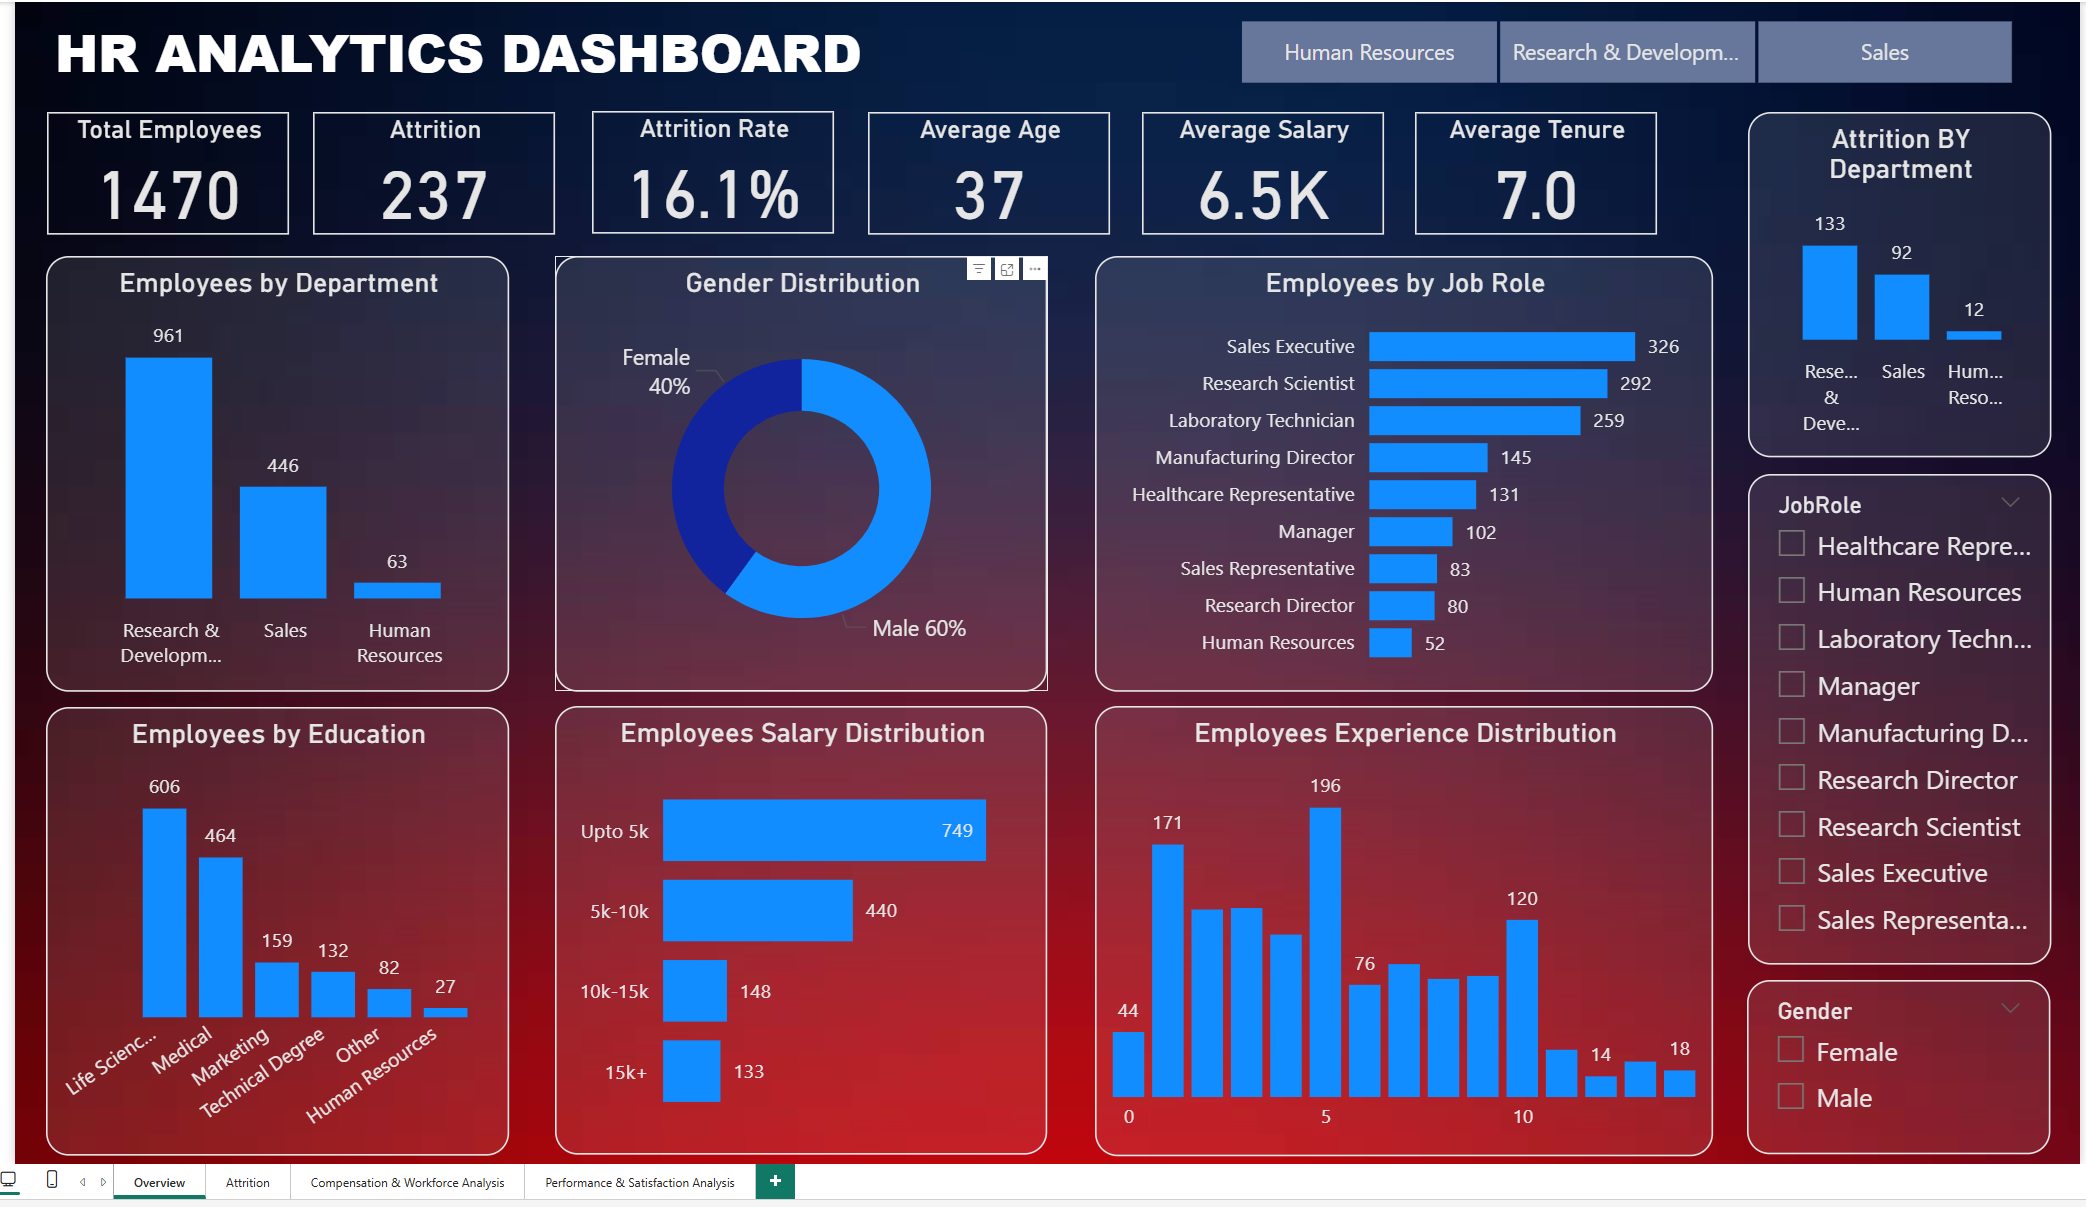

The page's visual inventory and layout, read from the dashboard file:
{"tool":"powerbi","page":{"name":"Overview","canvas":[1280,720],"ordinal":0},"visuals":[{"type":"card","title":"Attrition","fields":{"Values":["Sum(HR_Analytics.AttritionCount)"]},"box":[184.7,68,149.9,75.7],"z":0},{"type":"card","title":"Average Tenure","fields":{"Values":["Avg(HR_Analytics.YearsAtCompany)"]},"box":[867.6,68,149.9,75.7],"z":1000},{"type":"card","title":"Average Salary","fields":{"Values":["Avg(HR_Analytics.MonthlyIncome)"]},"box":[698,68,149.9,75.7],"z":2000},{"type":"card","title":"Average Age","fields":{"Values":["Avg(HR_Analytics.Age)"]},"box":[528.5,68,149.9,75.7],"z":3000},{"type":"card","title":"Attrition Rate","fields":{"Values":["HR_Analytics.AttritionRate"]},"box":[357.5,67.8,149.9,76.2],"z":4000},{"type":"columnChart","title":"Employees by Department","fields":{"Category":["HR_Analytics.Department"],"Y":["CountNonNull(HR_Analytics.EmpID)"]},"box":[19.2,157.4,286.9,269.5],"z":5000},{"type":"donutChart","title":"Gender Distribution","fields":{"Category":["HR_Analytics.Gender"],"Y":["CountNonNull(HR_Analytics.EmpID)"]},"box":[334.6,157.4,305.5,269.5],"z":6000},{"type":"clusteredBarChart","title":"Employees by Job Role","fields":{"Category":["HR_Analytics.JobRole"],"Y":["CountNonNull(HR_Analytics.EmpID)"]},"box":[669.3,157.5,383.1,269.5],"z":7000},{"type":"card","title":"Total Employees","fields":{"Values":["CountNonNull(HR_Analytics.EmpID)"]},"box":[19.7,68.1,149.9,75.7],"z":8000},{"type":"columnChart","title":"Employees by Education","fields":{"Category":["HR_Analytics.EducationField"],"Y":["CountNonNull(HR_Analytics.EmpID)"]},"box":[19.2,436.8,286.9,277.6],"z":9000},{"type":"clusteredBarChart","title":"Employees Salary Distribution","fields":{"Category":["HR_Analytics.SalarySlab"],"Y":["CountNonNull(HR_Analytics.EmpID)"]},"box":[334.6,436.2,305.5,278.2],"z":10000},{"type":"columnChart","title":"Employees Experience Distribution","fields":{"Category":["HR_Analytics.YearsAtCompany"],"Y":["CountNonNull(HR_Analytics.EmpID)"]},"box":[669.3,436.1,383.1,278.6],"z":11000},{"type":"textbox","box":[19.7,3,530,59.1],"z":12000},{"type":"slicer","fields":{"Values":["HR_Analytics.Department"]},"box":[734.3,0,527.3,62],"z":13000},{"type":"slicer","fields":{"Values":["HR_Analytics.JobRole"]},"box":[1073.8,292.5,187.7,303.6],"z":14000},{"type":"slicer","fields":{"Values":["HR_Analytics.Gender"]},"box":[1073.2,606,188.4,108.4],"z":15000},{"type":"columnChart","title":"Attrition BY Department","fields":{"Category":["HR_Analytics.Department"],"Y":["Sum(HR_Analytics.AttritionCount)"]},"box":[1073.8,68.2,187.7,213.8],"z":16000}]}

Visuals, with their boxes on the page's 1280x720 design canvas (x1, y1, x2, y2). These are canvas units, not pixel positions in the 2086x1207 screenshot, which may show the page scaled, cropped or inside an application window:
"Attrition" card: 185:68:335:144
"Average Tenure" card: 868:68:1018:144
"Average Salary" card: 698:68:848:144
"Average Age" card: 528:68:678:144
"Attrition Rate" card: 358:68:507:144
"Employees by Department" columnChart: 19:157:306:427
"Gender Distribution" donutChart: 335:157:640:427
"Employees by Job Role" clusteredBarChart: 669:158:1052:427
"Total Employees" card: 20:68:170:144
"Employees by Education" columnChart: 19:437:306:714
"Employees Salary Distribution" clusteredBarChart: 335:436:640:714
"Employees Experience Distribution" columnChart: 669:436:1052:715
textbox: 20:3:550:62
slicer - HR_Analytics.Department: 734:0:1262:62
slicer - HR_Analytics.JobRole: 1074:292:1262:596
slicer - HR_Analytics.Gender: 1073:606:1262:714
"Attrition BY Department" columnChart: 1074:68:1262:282
